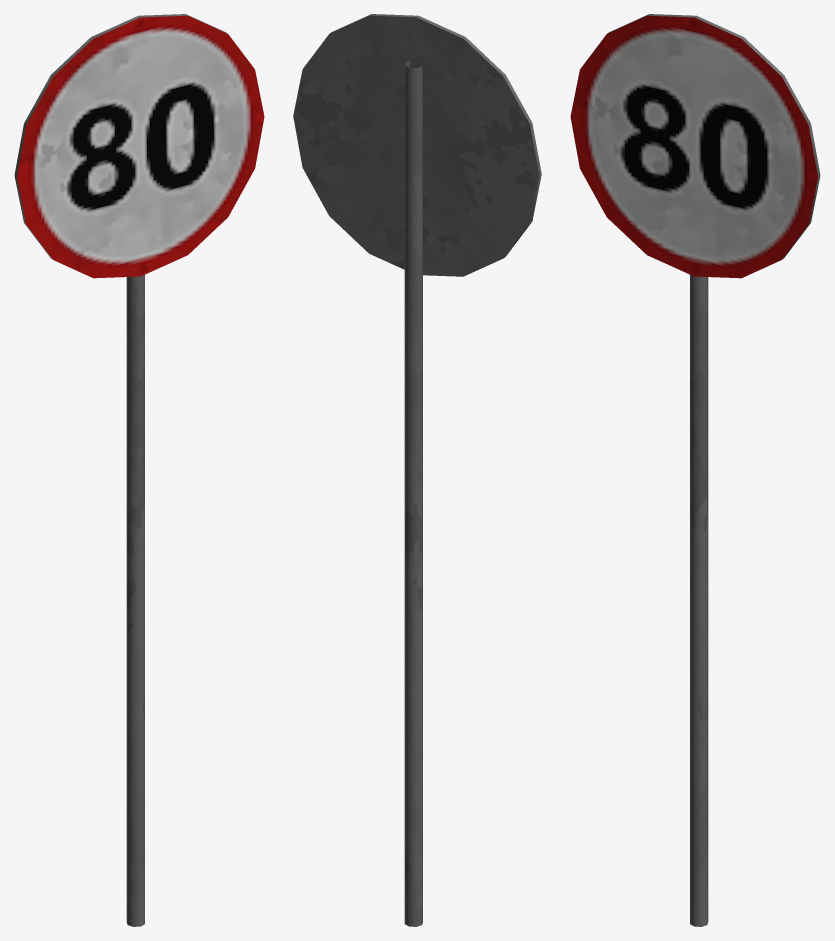
Rendered from Sign_04.glb.
The picture shows the model from 3 angles, left to right: view 1: azimuth 30°, elevation 25°; view 2: azimuth 150°, elevation 25°; view 3: azimuth 330°, elevation 25°; orthographic projection.
Visible parts, largest first — view 1: Sign_04.001; view 2: Sign_04.001; view 3: Sign_04.001.
Boxes of the visible parts, bbox=[...] form: Sign_04.001: bbox=[14, 14, 264, 926]; Sign_04.001: bbox=[293, 14, 541, 926]; Sign_04.001: bbox=[570, 14, 820, 926].
Bounding box in the file's own units: 0.6 × 2.11 × 0.04.
Materials: 1 (1 with a texture image).
